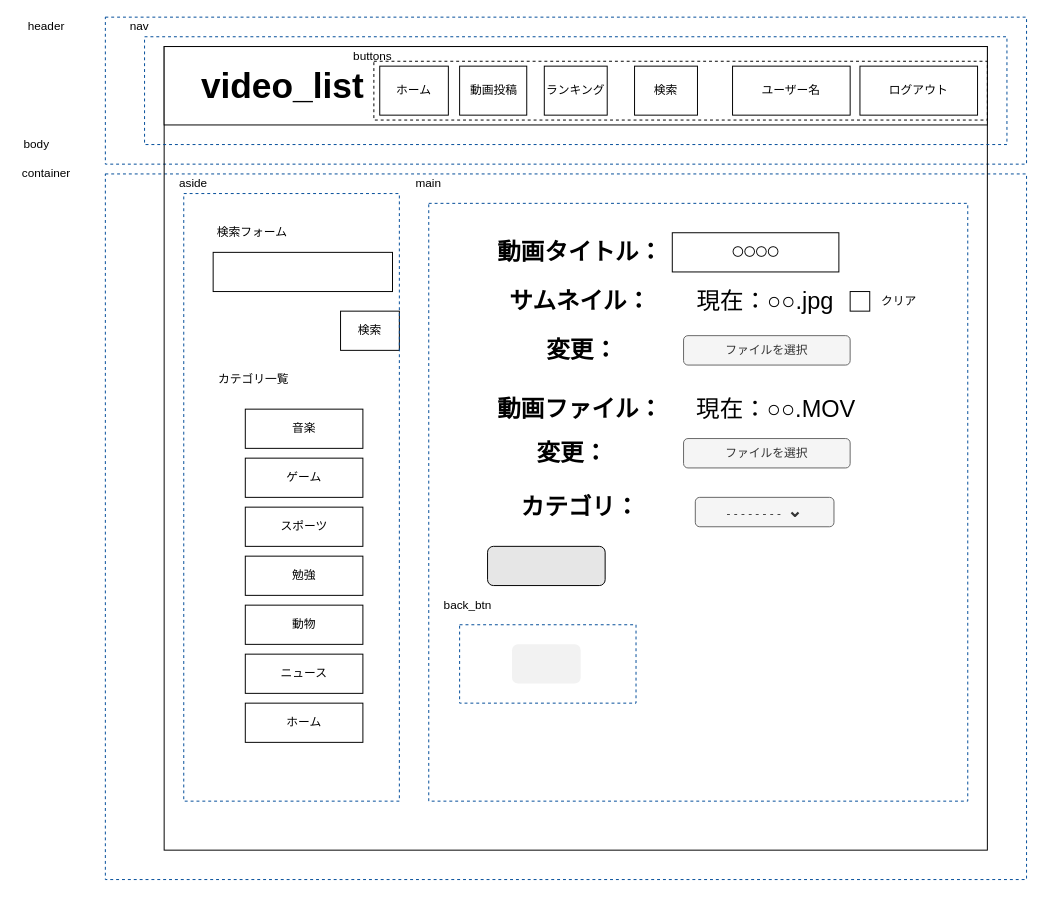
Some shapes in this 1044 by 897 pixel diagram are drawn without their labels. Here are the shapes that lost their labels. From the top down, the centre of each, then its label:
At pixel 546 565: "更新".
At pixel 546 663: "戻る".
